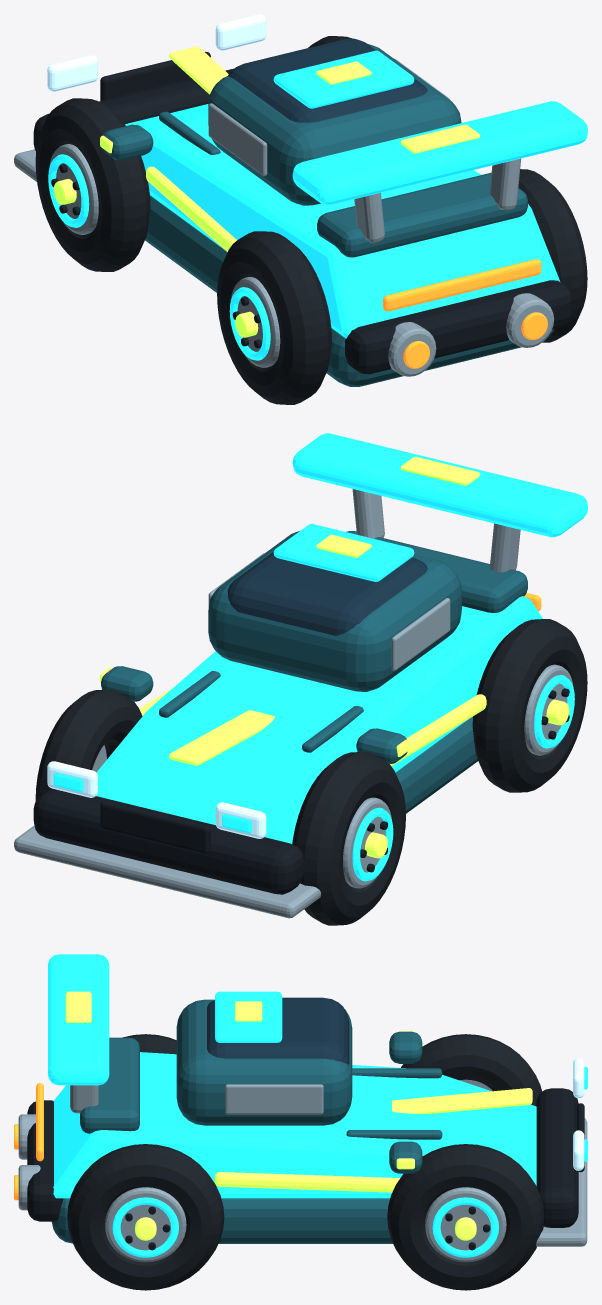
The model's file is rift-runner.glb.
3 renders of one model, top to bottom at view 1: azimuth 30°, elevation 25°; view 2: azimuth 150°, elevation 25°; view 3: azimuth 270°, elevation 25°, orthographic. The views are drawn at different scales.
Visible parts, largest first — view 1: Rift Runner V2 • one-piece faceted body shell, Rift Runner V2 • split aerofoil, Rift Runner V2 • tire -1,-1, Rift Runner V2 • cockpit canopy frame, Rift Runner V2 • tire -1,1, Rift Runner V2 • rear deck, Rift Runner V2 • rear diffuser, Rift Runner V2 • armored lower keel, Rift Runner V2 • panoramic smoked canopy, Rift Runner V2 • tire 1,-1, Rift Runner V2 • roof panel, Rift Runner V2 • front impact bumper (+21 smaller); view 2: Rift Runner V2 • one-piece faceted body shell, Rift Runner V2 • cockpit canopy frame, Rift Runner V2 • split aerofoil, Rift Runner V2 • tire -1,-1, Rift Runner V2 • tire -1,1, Rift Runner V2 • front impact bumper, Rift Runner V2 • panoramic smoked canopy, Rift Runner V2 • front splitter, Rift Runner V2 • tire 1,1, Rift Runner V2 • roof panel, Rift Runner V2 • armored lower keel, Rift Runner V2 • rear deck (+18 smaller); view 3: Rift Runner V2 • one-piece faceted body shell, Rift Runner V2 • tire 1,-1, Rift Runner V2 • tire 1,1, Rift Runner V2 • cockpit canopy frame, Rift Runner V2 • armored lower keel, Rift Runner V2 • split aerofoil, Rift Runner V2 • panoramic smoked canopy, Rift Runner V2 • front impact bumper, Rift Runner V2 • tire -1,1, Rift Runner V2 • rear deck, Rift Runner V2 • alloy hub 1,-1, Rift Runner V2 • alloy hub 1,1 (+21 smaller).
Boxes of the visible parts, x1,y1,x2,y2 form: Rift Runner V2 • one-piece faceted body shell: (125, 104, 560, 338); Rift Runner V2 • split aerofoil: (292, 101, 587, 205); Rift Runner V2 • tire -1,-1: (217, 231, 331, 404); Rift Runner V2 • cockpit canopy frame: (208, 44, 461, 205); Rift Runner V2 • tire -1,1: (35, 98, 150, 271); Rift Runner V2 • rear deck: (317, 172, 527, 257); Rift Runner V2 • rear diffuser: (345, 280, 572, 374); Rift Runner V2 • armored lower keel: (145, 195, 554, 386); Rift Runner V2 • panoramic smoked canopy: (227, 38, 427, 122); Rift Runner V2 • tire 1,-1: (518, 169, 587, 342); Rift Runner V2 • roof panel: (273, 50, 414, 108); Rift Runner V2 • front impact bumper: (33, 68, 234, 150); Rift Runner V2 • one-piece faceted body shell: (96, 596, 542, 843); Rift Runner V2 • cockpit canopy frame: (208, 531, 461, 691); Rift Runner V2 • split aerofoil: (292, 433, 587, 537); Rift Runner V2 • tire -1,-1: (472, 619, 587, 792); Rift Runner V2 • tire -1,1: (292, 752, 405, 925); Rift Runner V2 • front impact bumper: (33, 788, 304, 894); Rift Runner V2 • panoramic smoked canopy: (227, 551, 427, 635); Rift Runner V2 • front splitter: (14, 825, 320, 918); Rift Runner V2 • tire 1,1: (35, 689, 142, 801); Rift Runner V2 • roof panel: (273, 524, 414, 581); Rift Runner V2 • armored lower keel: (395, 716, 477, 813); Rift Runner V2 • rear deck: (346, 531, 527, 612); Rift Runner V2 • one-piece faceted body shell: (53, 1052, 536, 1198); Rift Runner V2 • tire 1,-1: (67, 1144, 224, 1290); Rift Runner V2 • tire 1,1: (387, 1144, 544, 1290); Rift Runner V2 • cockpit canopy frame: (176, 999, 352, 1125); Rift Runner V2 • armored lower keel: (51, 1198, 392, 1243); Rift Runner V2 • split aerofoil: (48, 954, 109, 1085); Rift Runner V2 • panoramic smoked canopy: (207, 997, 349, 1064); Rift Runner V2 • front impact bumper: (536, 1088, 578, 1227); Rift Runner V2 • tire -1,1: (401, 1034, 541, 1106); Rift Runner V2 • rear deck: (80, 1037, 139, 1133); Rift Runner V2 • alloy hub 1,-1: (105, 1187, 186, 1262); Rift Runner V2 • alloy hub 1,1: (425, 1187, 506, 1262).
Size of the model in its own units: 2.31 by 1.76 by 4.02.
